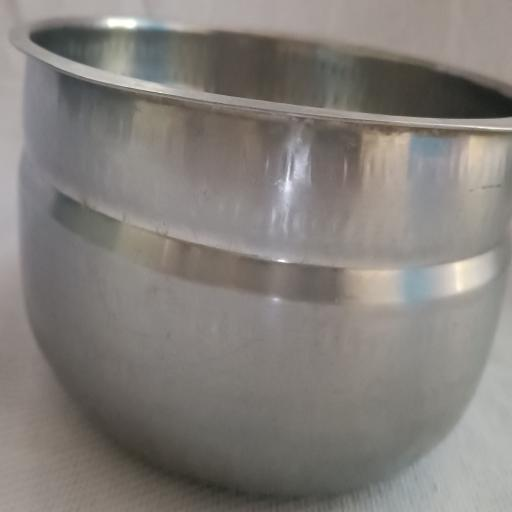vessel: (12, 18, 512, 494)
